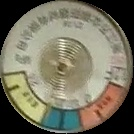green: (44, 108, 82, 132)
red: (79, 81, 129, 129)
yellow: (3, 73, 50, 126)
